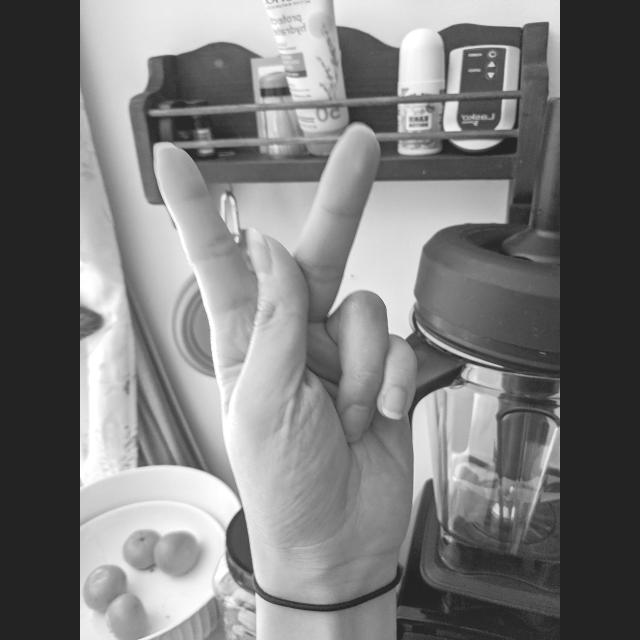K: (144, 118, 426, 570)
